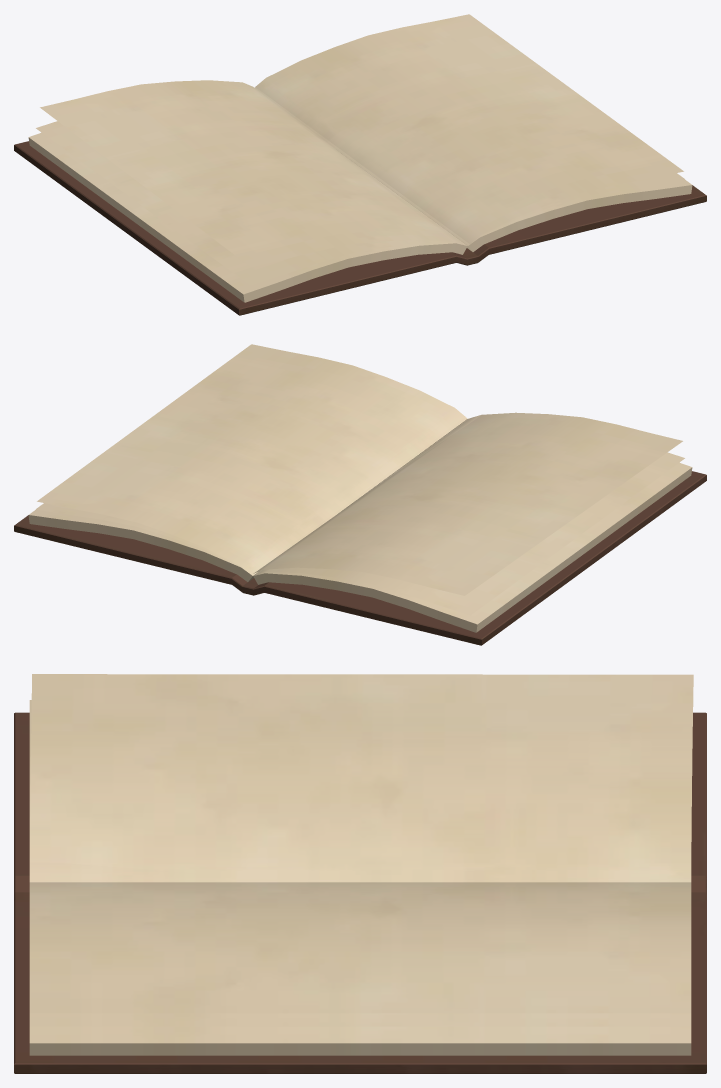
Rendered from open_book.glb.
3 renders of one model, top to bottom at view 1: azimuth 30°, elevation 25°; view 2: azimuth 150°, elevation 25°; view 3: azimuth 270°, elevation 25°, orthographic. The views are drawn at different scales.
Parts seen in each view (by area): view 1: Object_3, Object_2; view 2: Object_3, Object_2; view 3: Object_3, Object_2.
Part boxes in pixels (x1,y1,x2,y2): Object_3: (28,14,692,302); Object_2: (14,141,706,315); Object_3: (28,344,692,632); Object_2: (14,471,706,645); Object_3: (29,674,693,1055); Object_2: (14,712,706,1073).
Bounding box in the file's own units: 6.87 × 0.6653 × 5.73.
2 materials, 2 textured.
